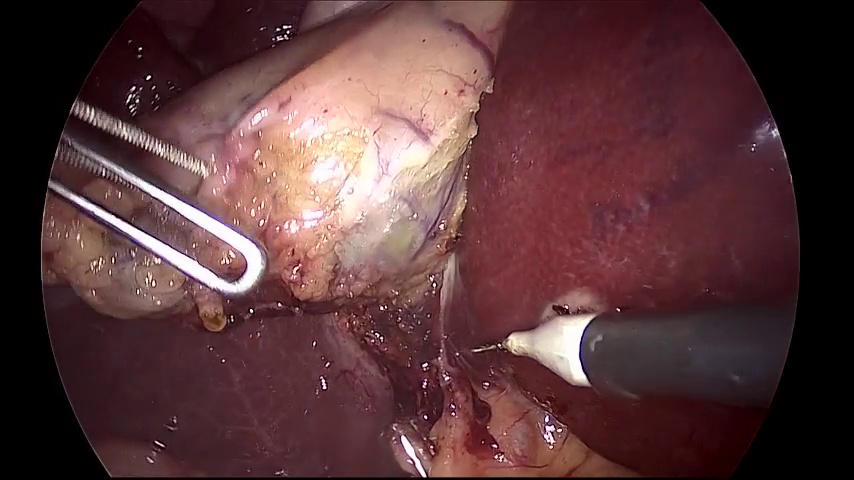grasper: (48, 101, 262, 294)
lhook: (472, 303, 796, 411)
